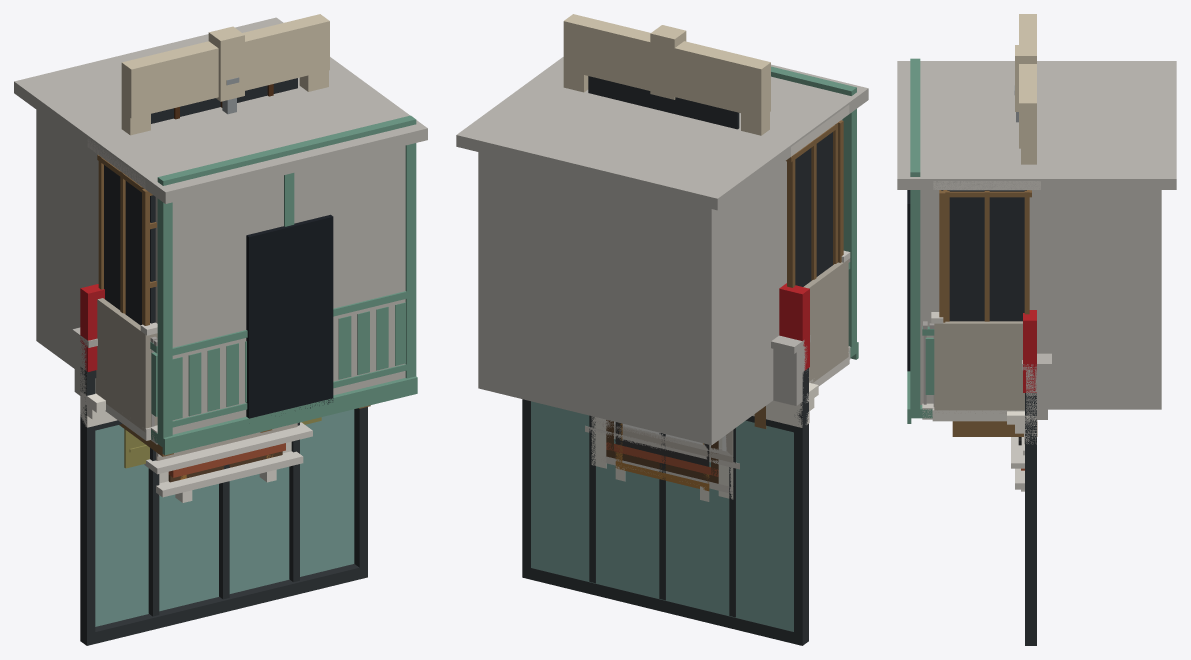
The model's file is facade_kit.fbx.
3 views of the same model, side by side, from view 1: azimuth 30°, elevation 25°; view 2: azimuth 150°, elevation 25°; view 3: azimuth 270°, elevation 25° (orthographic). The views are drawn at different scales.
Visible parts, largest first — view 1: roof_box, win_shop, balc_wood, ent_old, balc_glazed, balc_loggia, win_stalin, window, win_brick, parapet, cornice; view 2: roof_box, win_shop, ent_old, balc_glazed, balc_loggia, balc_wood, win_stalin, parapet, win_brick, window, cornice, win_old (+1 smaller); view 3: roof_box, balc_glazed, balc_loggia, balc_wood, win_shop, ent_old, parapet, cornice, balcony.
Boxes of the visible parts, box(x1,y1,x2,y2) form: roof_box: box(14, 17, 427, 434); win_shop: box(80, 284, 367, 645); balc_wood: box(119, 115, 417, 456); ent_old: box(121, 14, 329, 135); balc_glazed: box(87, 138, 156, 325); balc_loggia: box(95, 298, 157, 440); win_stalin: box(156, 441, 303, 502); window: box(144, 422, 312, 474); win_brick: box(124, 417, 321, 477); parapet: box(72, 327, 97, 395); cornice: box(80, 391, 117, 427); roof_box: box(456, 57, 868, 445); win_shop: box(522, 283, 809, 645); ent_old: box(563, 14, 770, 135); balc_glazed: box(786, 105, 849, 287); balc_loggia: box(773, 250, 850, 405); balc_wood: box(754, 66, 858, 428); win_stalin: box(591, 416, 733, 501); parapet: box(771, 335, 810, 405); win_brick: box(606, 422, 718, 476); window: box(585, 421, 739, 469); cornice: box(752, 383, 818, 427); win_old: box(615, 423, 709, 491); roof_box: box(897, 61, 1176, 409); balc_glazed: box(933, 181, 1040, 322); balc_loggia: box(931, 312, 1037, 421); balc_wood: box(907, 58, 1037, 436); win_shop: box(1023, 310, 1036, 645); ent_old: box(1015, 14, 1036, 164); parapet: box(1022, 353, 1051, 419); cornice: box(1007, 411, 1036, 444); balcony: box(922, 321, 934, 419).
Bounding box in the file's own units: 300 × 589 × 280.
